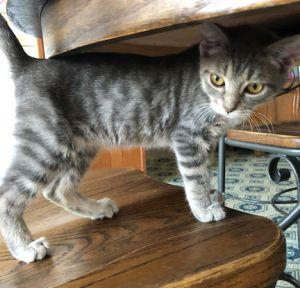bengal: (188, 21, 298, 129)
